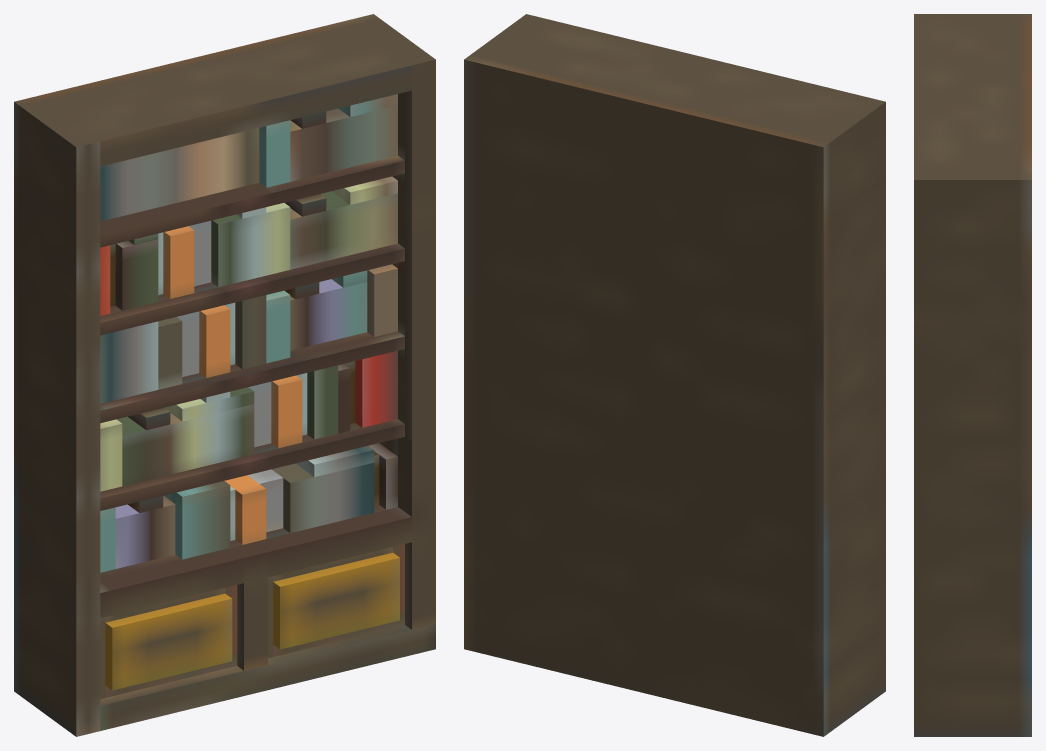
The model's file is BookhshelfBrown_02.fbx.
3 views of the same model, side by side, from view 1: azimuth 30°, elevation 25°; view 2: azimuth 150°, elevation 25°; view 3: azimuth 270°, elevation 25° (orthographic). The views are drawn at different scales.
Visible parts, largest first — view 1: BookhshelfBrown_02; view 2: BookhshelfBrown_02; view 3: BookhshelfBrown_02.
Boxes of the visible parts, x1,y1,x2,y2 form: BookhshelfBrown_02: (14, 14, 435, 736); BookhshelfBrown_02: (464, 14, 885, 736); BookhshelfBrown_02: (914, 14, 1031, 736).
Bounding box in the file's own units: 150 × 45 × 235.
Materials: 1 (1 with a texture image).
